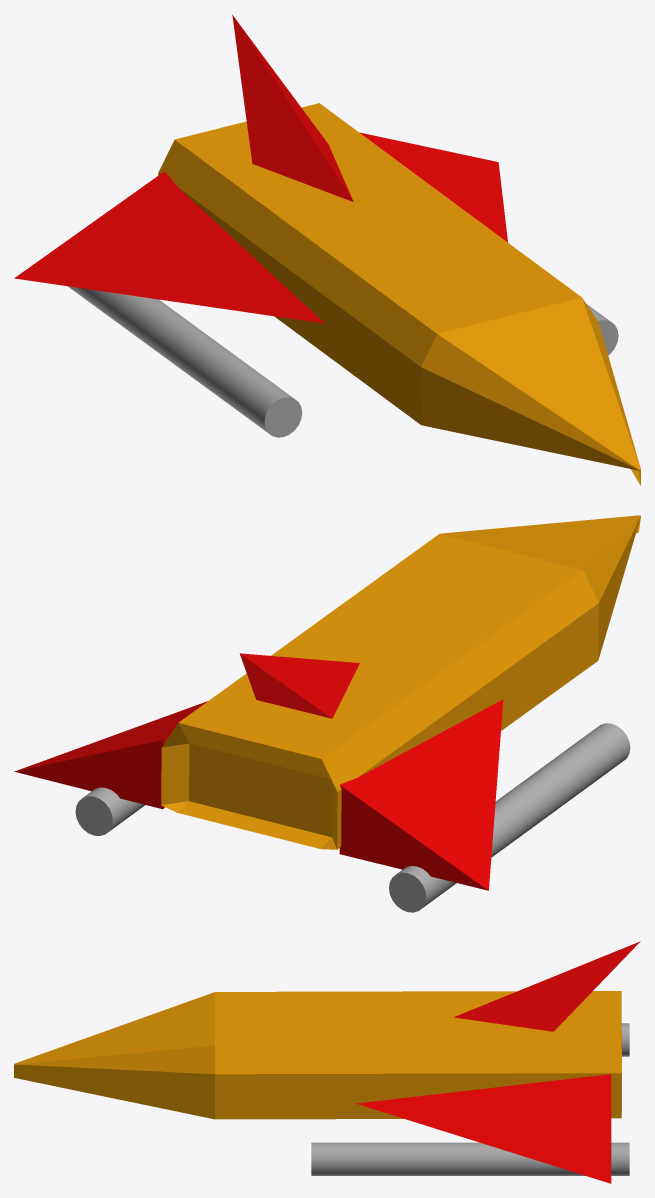
The model's file is Player.fbx.
3 renders of one model, top to bottom at view 1: azimuth 30°, elevation 25°; view 2: azimuth 150°, elevation 25°; view 3: azimuth 270°, elevation 25°, orthographic. The views are drawn at different scales.
Visible parts, largest first — view 1: Player1; view 2: Player1; view 3: Player1.
Boxes of the visible parts, x1,y1,x2,y2 form: Player1: [14, 15, 640, 485]; Player1: [14, 515, 640, 912]; Player1: [14, 941, 640, 1183].
Bounding box in the file's own units: 414 × 186 × 604.
